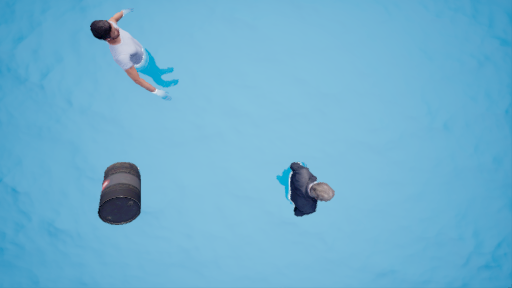person: (92, 8, 184, 112), (281, 155, 337, 220)
